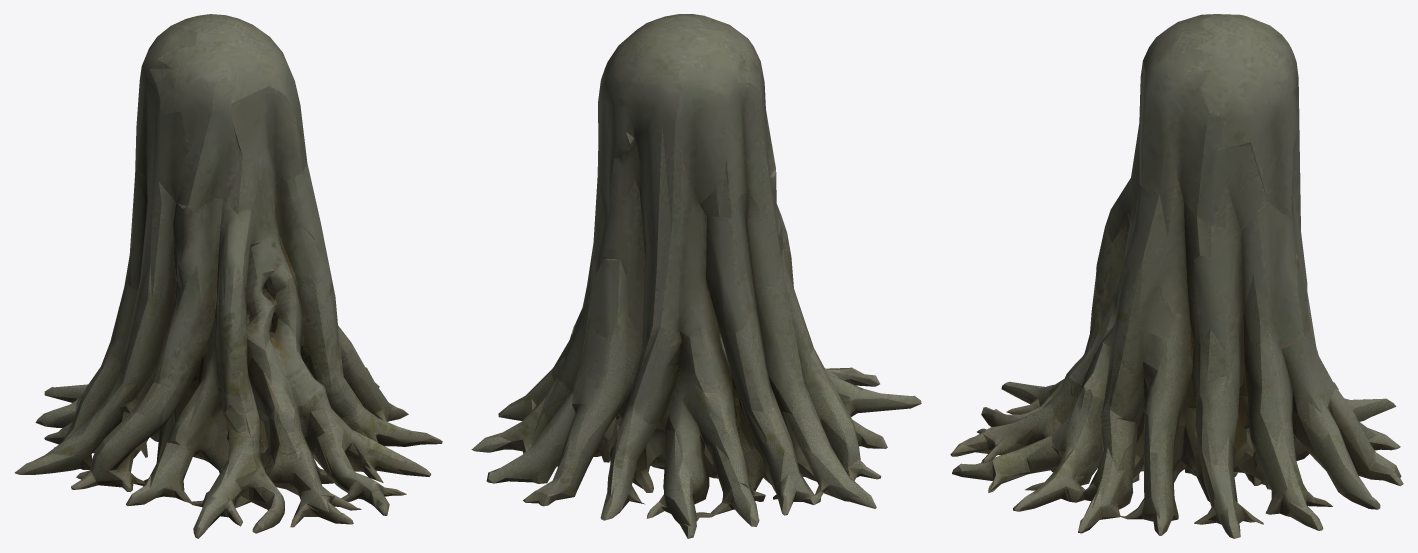
Rendered from Rainforest_Tree_Buttress.glb.
3 renders of one model, left to right at view 1: azimuth 30°, elevation 25°; view 2: azimuth 150°, elevation 25°; view 3: azimuth 270°, elevation 25°, orthographic. The views are drawn at different scales.
Size of the model in its own units: 1.76 by 1.9 by 1.81.
Materials: 1 (1 with a texture image).
